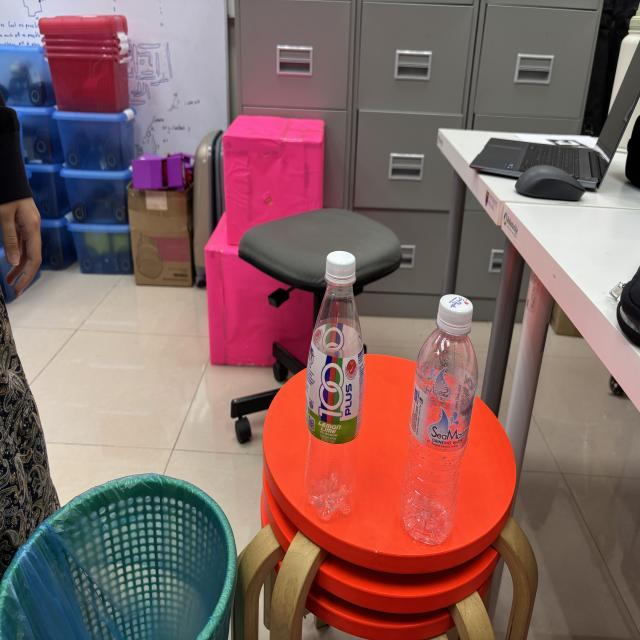dustbin: (0, 460, 241, 640)
plastic_bottle: (391, 282, 484, 556), (297, 240, 379, 530)
